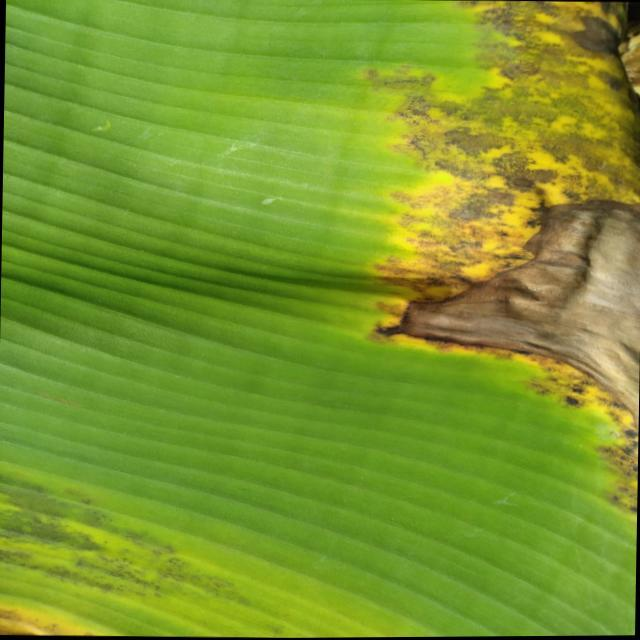Early_rust: (316, 0, 640, 504), (0, 455, 288, 640)
